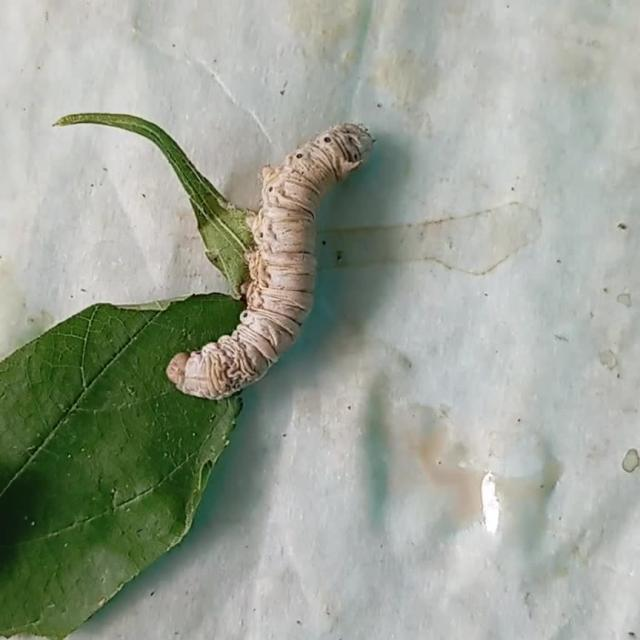Grasserie: (159, 101, 384, 414)
